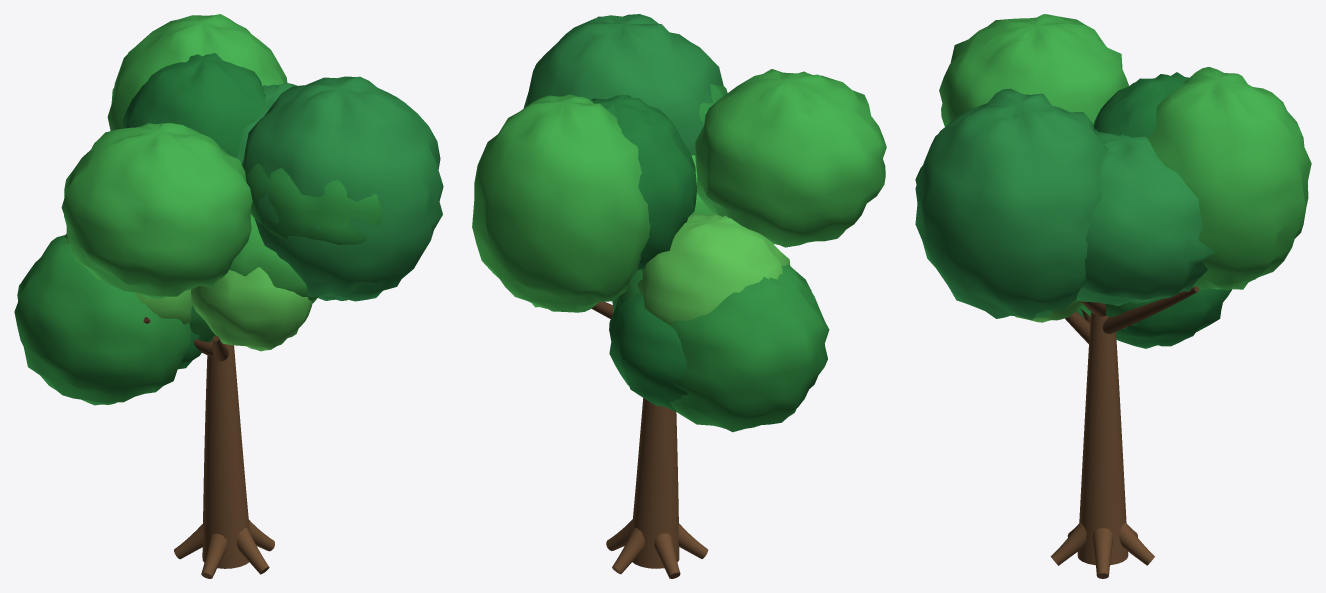
Rendered from tree-c.glb.
3 renders of one model, left to right at view 1: azimuth 30°, elevation 25°; view 2: azimuth 150°, elevation 25°; view 3: azimuth 270°, elevation 25°, orthographic.
Parts seen in each view (by area): view 1: crown blob.004, crown blob.011, crown blob.005, crown blob.002, tree trunk, crown blob.001, crown blob.008, crown blob.010, crown blob.006, crown blob.003, crown blob.009, tree root flare.002 (+1 smaller); view 2: crown blob.001, crown blob.011, crown blob.005, crown blob.004, crown blob.003, crown blob.002, tree trunk, crown blob.007, tree root flare.003, tree root flare.004; view 3: crown blob.004, crown blob.001, crown blob.009, crown blob.011, tree trunk, crown blob.007, crown blob.002, tree branch.004, tree root flare, tree root flare.001, tree root flare.004.
Boxes of the visible parts, left/top/right/bottom form: crown blob.004: left=242, top=76, right=443, bottom=301; crown blob.011: left=61, top=123, right=252, bottom=298; crown blob.005: left=14, top=235, right=191, bottom=405; crown blob.002: left=122, top=53, right=266, bottom=157; tree trunk: left=202, top=343, right=249, bottom=568; crown blob.001: left=107, top=14, right=287, bottom=130; crown blob.008: left=191, top=267, right=312, bottom=351; crown blob.010: left=246, top=163, right=382, bottom=244; crown blob.006: left=229, top=214, right=319, bottom=303; crown blob.003: left=64, top=233, right=192, bottom=324; crown blob.009: left=234, top=83, right=297, bottom=164; tree root flare.002: left=201, top=533, right=227, bottom=578; crown blob.001: left=472, top=94, right=650, bottom=312; crown blob.011: left=695, top=69, right=886, bottom=247; crown blob.005: left=669, top=265, right=829, bottom=432; crown blob.004: left=523, top=14, right=723, bottom=155; crown blob.003: left=637, top=213, right=790, bottom=325; crown blob.002: left=591, top=95, right=696, bottom=269; tree trunk: left=631, top=398, right=679, bottom=568; crown blob.007: left=609, top=293, right=687, bottom=411; tree root flare.003: left=654, top=533, right=680, bottom=578; tree root flare.004: left=612, top=527, right=644, bottom=574; crown blob.004: left=915, top=88, right=1108, bottom=320; crown blob.001: left=1148, top=67, right=1311, bottom=290; crown blob.009: left=1076, top=129, right=1216, bottom=305; crown blob.011: left=939, top=14, right=1128, bottom=126; tree trunk: left=1077, top=312, right=1128, bottom=565; crown blob.007: left=1079, top=288, right=1231, bottom=348; crown blob.002: left=1093, top=72, right=1189, bottom=137; tree branch.004: left=1102, top=286, right=1199, bottom=334; tree root flare: left=1092, top=528, right=1113, bottom=578; tree root flare.001: left=1050, top=522, right=1086, bottom=565; tree root flare.004: left=1119, top=522, right=1154, bottom=565.
Bounding box in the file's own units: 5.59 × 7.53 × 5.46.
